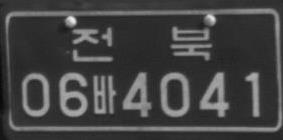0: (159, 71, 190, 117), (20, 71, 50, 118)
1: (240, 70, 268, 117)
4: (199, 71, 230, 118), (122, 71, 153, 117)
6: (58, 71, 88, 117)
바: (92, 75, 116, 113)
전북_D: (71, 26, 212, 61)
